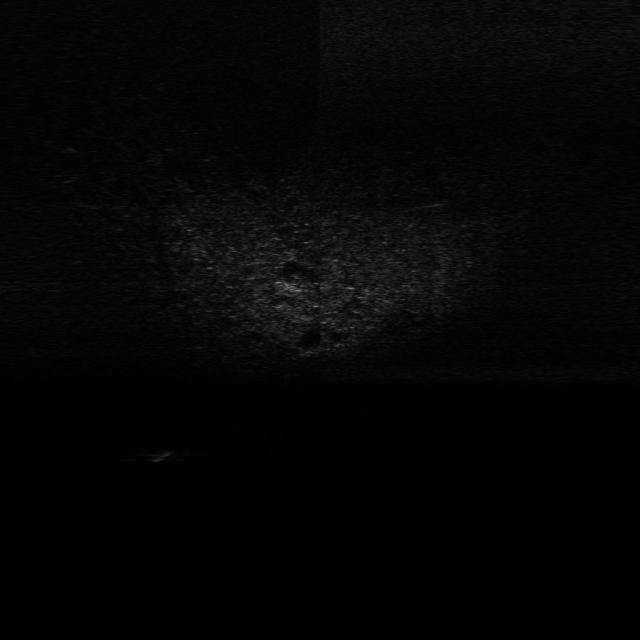cylinder: (152, 445, 182, 465)
